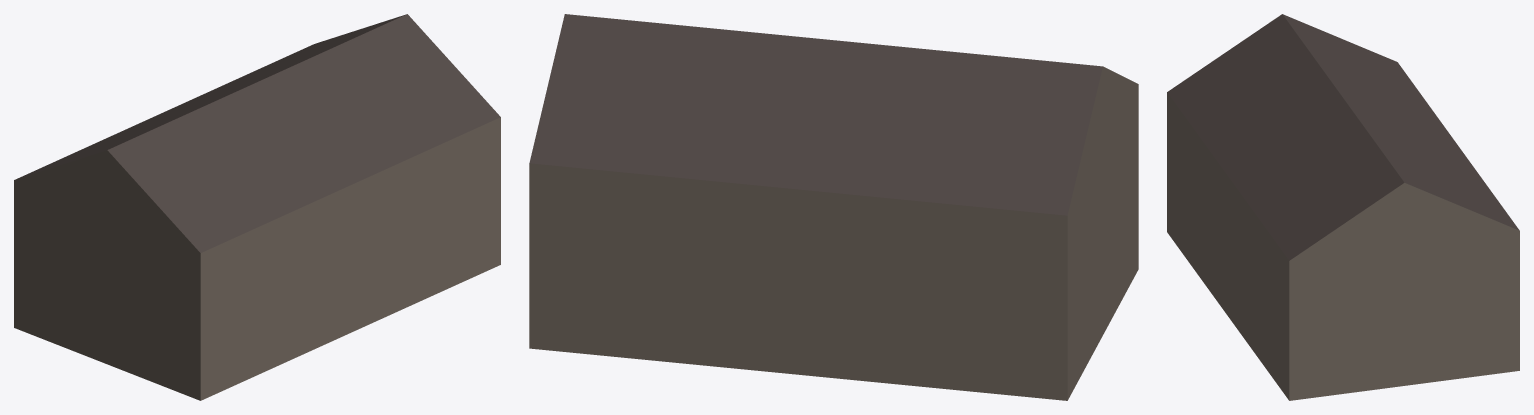
3 views of the same model, side by side, from view 1: azimuth 30°, elevation 25°; view 2: azimuth 150°, elevation 25°; view 3: azimuth 270°, elevation 25° (orthographic). The views are drawn at different scales.
Visible parts, largest first — view 1: HP-w859082473; view 2: HP-w859082473; view 3: HP-w859082473.
Part boxes in pixels (left/top/right/bottom): HP-w859082473: left=14, top=14, right=500, bottom=400; HP-w859082473: left=529, top=14, right=1138, bottom=400; HP-w859082473: left=1167, top=14, right=1519, bottom=400.
Bounding box in the file's own units: 27.4 × 13.06 × 20.54.
